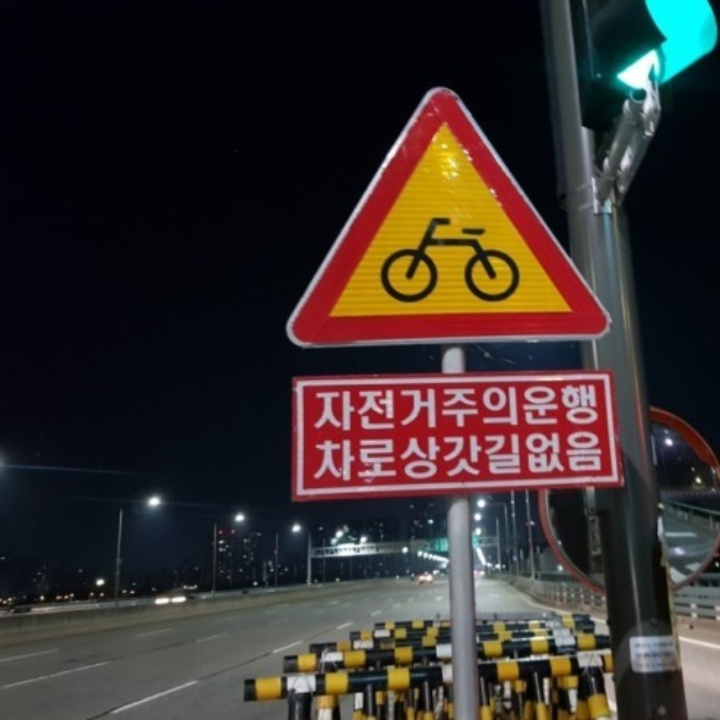bicycle: (275, 84, 609, 346)
